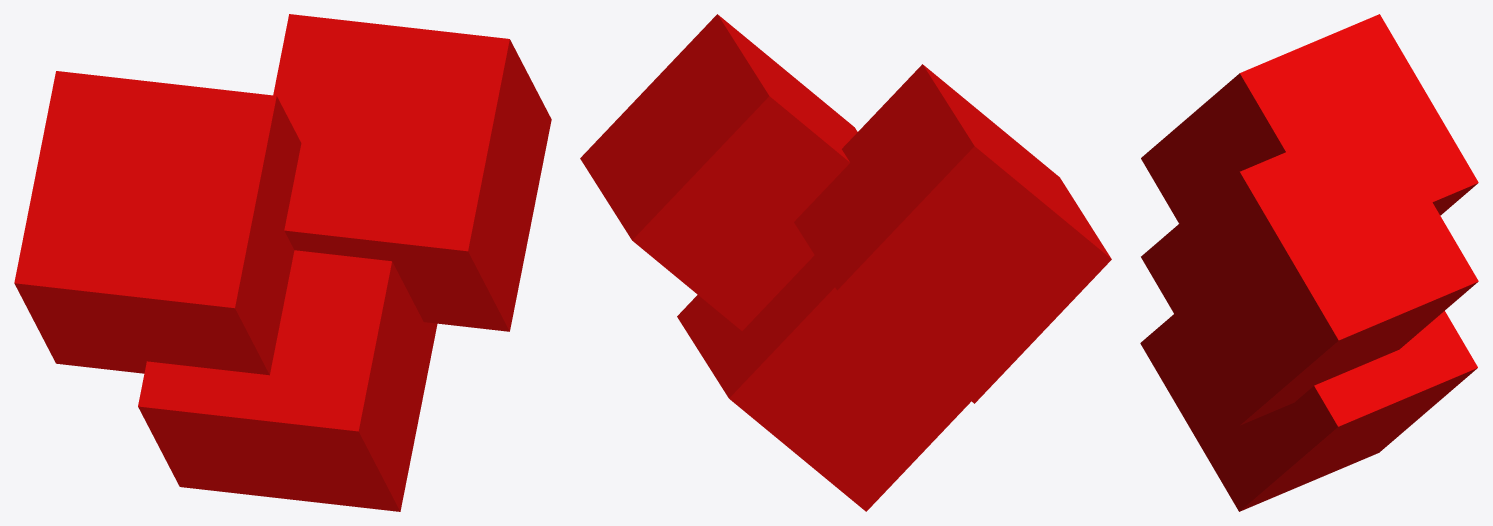
File: heartCubes.fbx
3 views of the same model, side by side, from view 1: azimuth 30°, elevation 25°; view 2: azimuth 150°, elevation 25°; view 3: azimuth 270°, elevation 25° (orthographic). The views are drawn at different scales.
Visible parts, largest first — view 1: topLeft, topRight, bottom; view 2: topLeft, topRight, bottom; view 3: topRight, topLeft, bottom.
Boxes of the visible parts, x1,y1,x2,y2 form: topLeft: [14, 71, 301, 375]; topRight: [273, 14, 551, 331]; bottom: [138, 250, 437, 511]; topLeft: [794, 64, 1111, 403]; topRight: [580, 14, 857, 330]; bottom: [677, 255, 971, 511]; topRight: [1141, 112, 1478, 425]; topLeft: [1141, 14, 1478, 223]; bottom: [1140, 311, 1477, 511].
Size of the model in its own units: 1.88 by 1.41 by 1.12.
